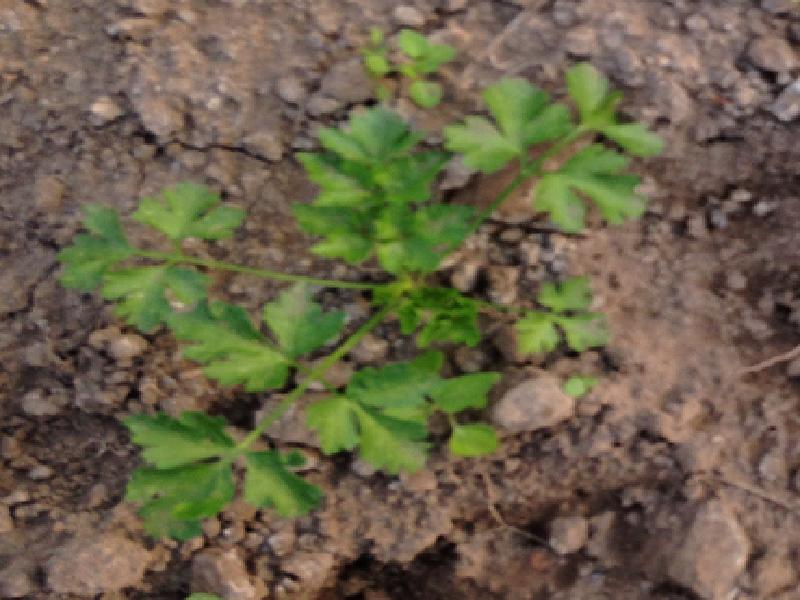radish: (0, 122, 800, 600)
